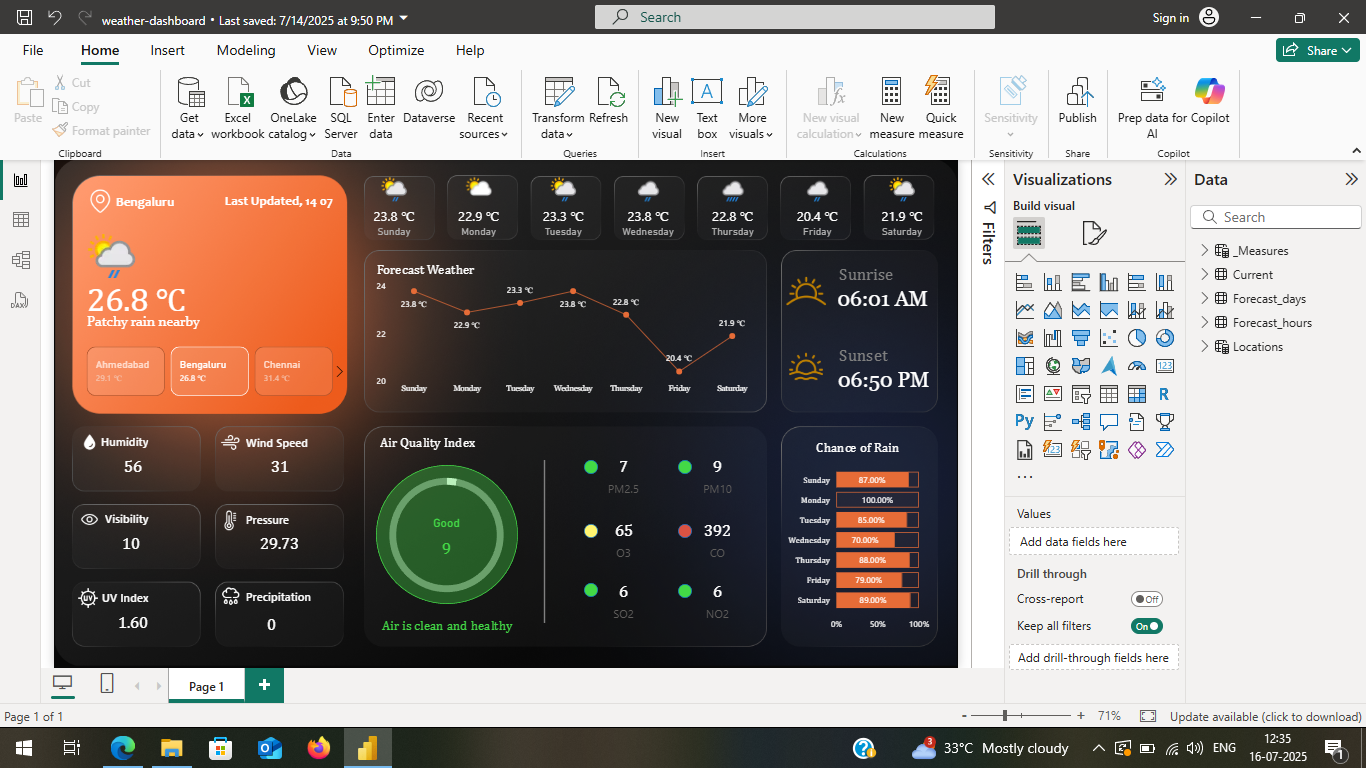

The dashboard page shown, as its layout file describes it:
{"tool":"powerbi","page":{"name":"Page 1","canvas":[1280,720],"ordinal":0},"visuals":[{"type":"advancedSlicerVisual","fields":{"Values":["Locations.location.name"]},"box":[21.8,258.7,399.8,80.6],"z":0},{"type":"shape","box":[46.8,165.8,180,62.4],"z":1000},{"type":"shape","box":[46.8,209.8,324.6,35.4],"z":2000},{"type":"shape","box":[221.1,39.7,174.3,35.4],"z":3000},{"type":"shape","box":[87.9,39.7,97.8,36.9],"z":4000},{"type":"image","box":[34,36.9,63.8,42.5],"z":5000},{"type":"cardVisual","fields":{"Data":["Current.current.condition.icon"]},"box":[21.3,76.5,116.2,103.5],"z":6000},{"type":"image","box":[34,381.3,32.6,36.9],"z":7000},{"type":"shape","box":[66.6,381.3,90.7,35.4],"z":8000},{"type":"image","box":[226.8,381.3,45.4,38.3],"z":9000},{"type":"shape","box":[272.1,382.7,107.7,35.4],"z":10000},{"type":"image","box":[28.3,490.4,43.9,38.3],"z":11000},{"type":"shape","box":[72.3,490.4,90.7,35.4],"z":12000},{"type":"image","box":[226.8,491.8,45.4,38.3],"z":13000},{"type":"shape","box":[272.1,491.8,107.7,35.4],"z":14000},{"type":"image","box":[28.3,600.9,39.7,39.7],"z":15000},{"type":"shape","box":[68,602.4,90.7,35.4],"z":16000},{"type":"image","box":[229.6,598.1,42.5,39.7],"z":17000},{"type":"shape","box":[272.1,603.8,107.7,28.3],"z":18000},{"type":"card","fields":{"Values":["Current.current.humidity"]},"box":[83.6,416.7,55.3,35.4],"z":19000},{"type":"card","fields":{"Values":["Current.current.wind_kph"]},"box":[290.6,416.7,58.1,35.4],"z":20000},{"type":"card","fields":{"Values":["Current.current.vis_km"]},"box":[79.4,525.8,58.1,35.4],"z":21000},{"type":"card","fields":{"Values":["Current.current.pressure_in"]},"box":[279.2,525.8,80.8,35.4],"z":22000},{"type":"card","fields":{"Values":["Current.current.uv"]},"box":[82.2,637.8,58.1,35.4],"z":23000},{"type":"card","fields":{"Values":["Current.current.precip_in"]},"box":[279.2,640.6,58.1,35.4],"z":24000},{"type":"advancedSlicerVisual","fields":{"Values":["Forecast_days.Day_name"]},"box":[420.9,12.8,844.7,102],"z":25000},{"type":"lineChart","title":"Forecast Weather","fields":{"Y":["Forecast_days.forecast.forecastday.day.avgtemp_c"],"Category":["Forecast_days.Day_name"]},"box":[452.1,143.1,544.3,197],"z":25001},{"type":"shape","box":[1112.6,143.1,90.7,36.9],"z":25002},{"type":"shape","box":[1112.6,259.4,78,34],"z":25003},{"type":"card","fields":{"Values":["Forecast_days.Sunrise_date"]},"box":[1102.7,171.5,143.1,49.6],"z":25004},{"type":"card","fields":{"Values":["Forecast_days.Sunset_date"]},"box":[1102.7,280.6,146,59.5],"z":25005},{"type":"image","box":[1007.7,143.1,116.2,85],"z":25006},{"type":"image","box":[1021.9,263.6,87.9,58.1],"z":25007},{"type":"hundredPercentStackedBarChart","title":"Chance of Rain","fields":{"Y":["Forecast_days.forecast.forecastday.day.daily_chance_of_rain","_Measures.left_value_rain"],"Category":["Forecast_days.Day_name"]},"box":[1031.8,395.4,214,280.6],"z":25008},{"type":"card","fields":{"Values":["Current.current.air_quality.pm10"]},"box":[884.4,408.2,112,73.7],"z":25009},{"type":"shape","box":[462,388.3,188.5,24.1],"z":25010},{"type":"card","fields":{"Values":["Current.current.air_quality.o3"]},"box":[751.2,498.9,112,73.7],"z":25011},{"type":"card","fields":{"Values":["Current.current.air_quality.pm2_5"]},"box":[751.2,408.2,112,73.7],"z":25012},{"type":"card","fields":{"Values":["Current.current.air_quality.co"]},"box":[884.4,498.9,112,73.7],"z":25013},{"type":"card","fields":{"Values":["Current.current.air_quality.so2"]},"box":[751.2,585.4,112,73.7],"z":25014},{"type":"card","fields":{"Values":["Current.current.air_quality.no2"]},"box":[884.4,585.4,112,73.7],"z":25015},{"type":"shape","box":[751.2,425.2,19.8,19.8],"z":25016},{"type":"shape","box":[677.5,425.2,35.4,231],"z":25017},{"type":"shape","box":[751.2,515.9,19.8,19.8],"z":25018},{"type":"shape","box":[751.2,599.5,19.8,19.8],"z":25019},{"type":"shape","box":[884.4,425.2,19.8,19.8],"z":25020},{"type":"shape","box":[884.4,515.9,19.8,19.8],"z":25021},{"type":"shape","box":[884.4,600.9,19.8,19.8],"z":25022},{"type":"card","fields":{"Values":["Current.current.air_quality.pm10"]},"box":[500.3,504.6,112,73.7],"z":25023},{"type":"donutChart","fields":{"Y":["Current.current.air_quality.pm10","_Measures.Rem_PM_10_value"]},"box":[433.7,425.2,245.2,212.6],"z":25024},{"type":"shape","box":[456.4,432.3,201.3,197],"z":25025},{"type":"shape","box":[445,619.4,223.9,79.4],"z":25026}]}

Visuals, with their boxes on the page's 1280x720 design canvas (x1, y1, x2, y2). These are canvas units, not pixel positions in the 1366x768 screenshot, which may show the page scaled, cropped or inside an application window:
advancedSlicerVisual - Locations.location.name: (22, 259, 422, 339)
shape: (47, 166, 227, 228)
shape: (47, 210, 371, 245)
shape: (221, 40, 395, 75)
shape: (88, 40, 186, 77)
image: (34, 37, 98, 79)
cardVisual - Current.current.condition.icon: (21, 76, 138, 180)
image: (34, 381, 67, 418)
shape: (67, 381, 157, 417)
image: (227, 381, 272, 420)
shape: (272, 383, 380, 418)
image: (28, 490, 72, 529)
shape: (72, 490, 163, 526)
image: (227, 492, 272, 530)
shape: (272, 492, 380, 527)
image: (28, 601, 68, 641)
shape: (68, 602, 159, 638)
image: (230, 598, 272, 638)
shape: (272, 604, 380, 632)
card - Current.current.humidity: (84, 417, 139, 452)
card - Current.current.wind_kph: (291, 417, 349, 452)
card - Current.current.vis_km: (79, 526, 138, 561)
card - Current.current.pressure_in: (279, 526, 360, 561)
card - Current.current.uv: (82, 638, 140, 673)
card - Current.current.precip_in: (279, 641, 337, 676)
advancedSlicerVisual - Forecast_days.Day_name: (421, 13, 1266, 115)
"Forecast Weather" lineChart: (452, 143, 996, 340)
shape: (1113, 143, 1203, 180)
shape: (1113, 259, 1191, 293)
card - Forecast_days.Sunrise_date: (1103, 172, 1246, 221)
card - Forecast_days.Sunset_date: (1103, 281, 1249, 340)
image: (1008, 143, 1124, 228)
image: (1022, 264, 1110, 322)
"Chance of Rain" hundredPercentStackedBarChart: (1032, 395, 1246, 676)
card - Current.current.air_quality.pm10: (884, 408, 996, 482)
shape: (462, 388, 650, 412)
card - Current.current.air_quality.o3: (751, 499, 863, 573)
card - Current.current.air_quality.pm2_5: (751, 408, 863, 482)
card - Current.current.air_quality.co: (884, 499, 996, 573)
card - Current.current.air_quality.so2: (751, 585, 863, 659)
card - Current.current.air_quality.no2: (884, 585, 996, 659)
shape: (751, 425, 771, 445)
shape: (678, 425, 713, 656)
shape: (751, 516, 771, 536)
shape: (751, 600, 771, 619)
shape: (884, 425, 904, 445)
shape: (884, 516, 904, 536)
shape: (884, 601, 904, 621)
card - Current.current.air_quality.pm10: (500, 505, 612, 578)
donutChart - Current.current.air_quality.pm10 x _Measures.Rem_PM_10_value: (434, 425, 679, 638)
shape: (456, 432, 658, 629)
shape: (445, 619, 669, 699)
